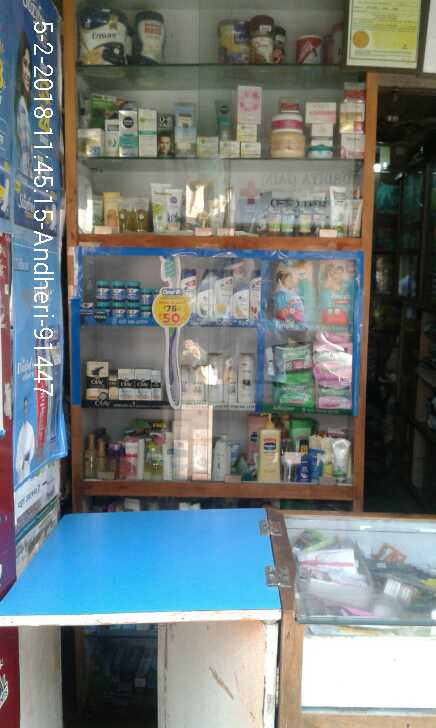vicks: (79, 277, 159, 321)
